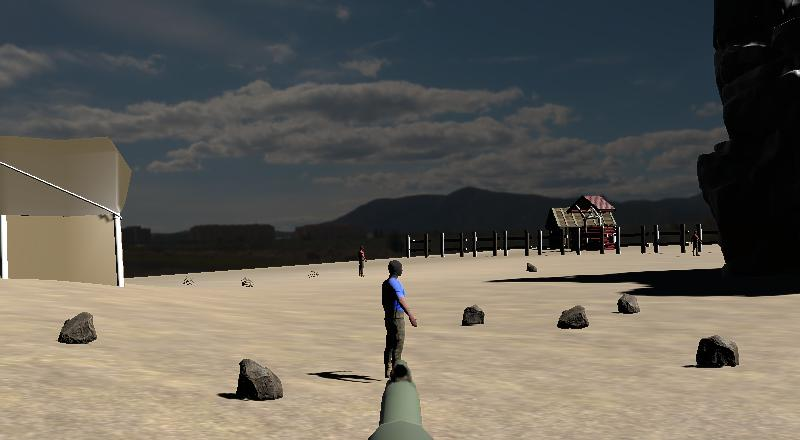Human: (375, 256, 419, 382), (355, 244, 369, 280)
